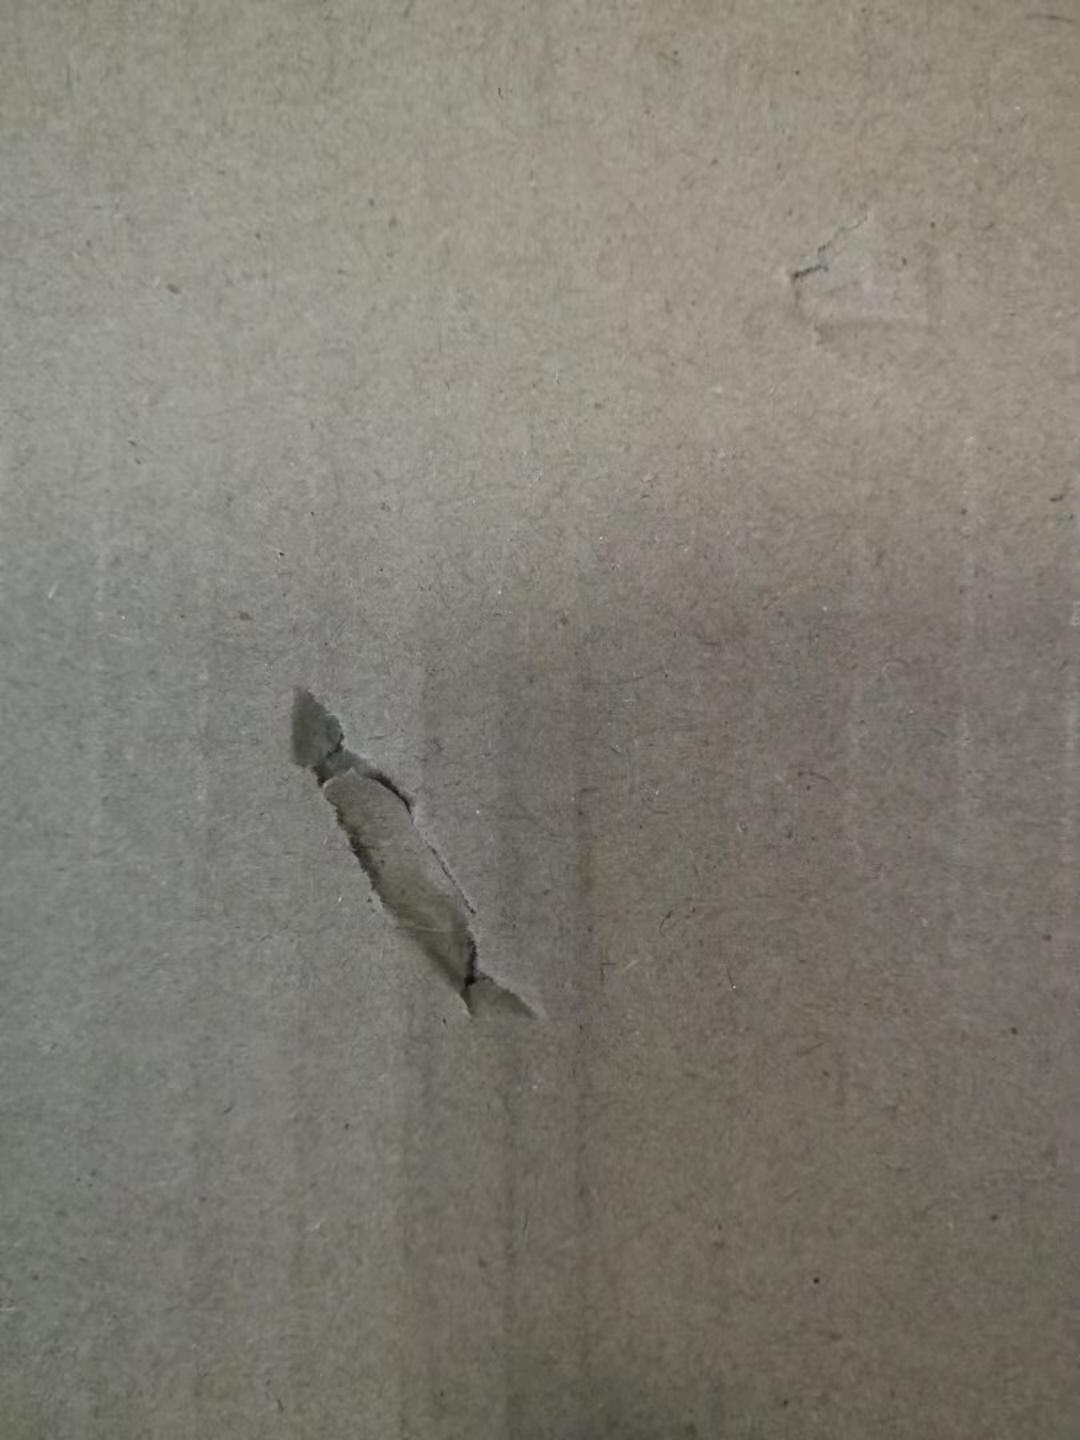defect: (239, 641, 600, 1065), (746, 175, 954, 373)
